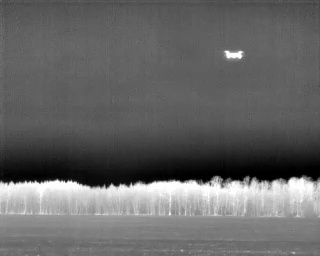DRONE: (219, 45, 247, 65)
